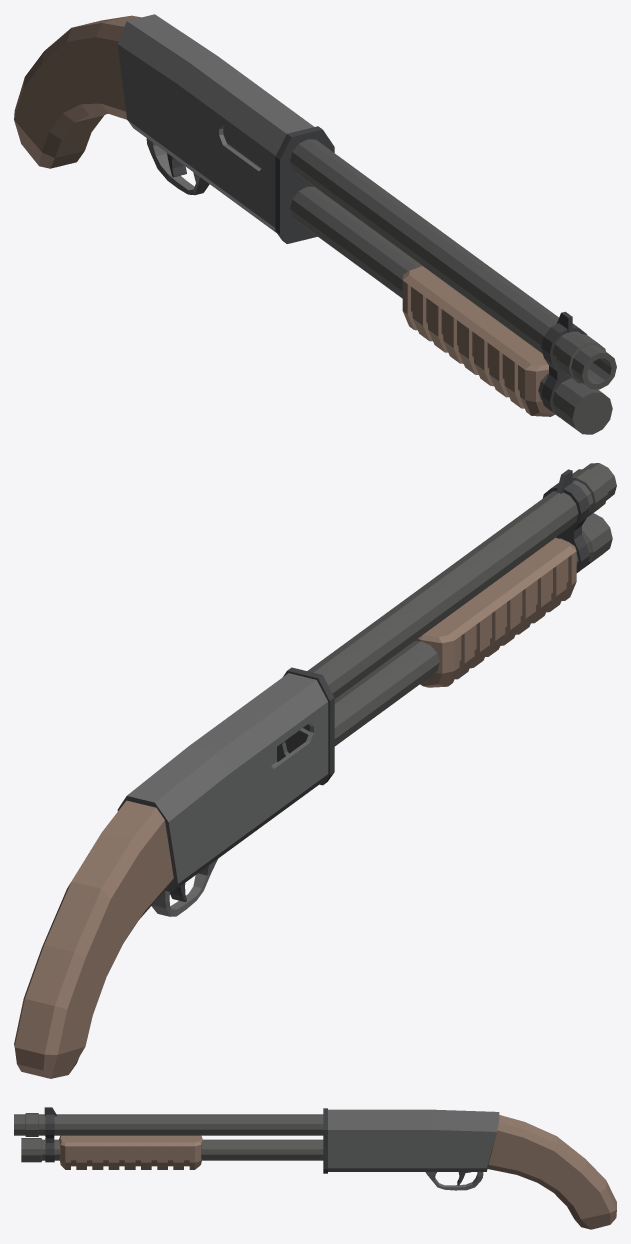
The model's file is shotgun_shortstock.glb.
3 views of the same model, one above another, from view 1: azimuth 30°, elevation 25°; view 2: azimuth 150°, elevation 25°; view 3: azimuth 270°, elevation 25° (orthographic). The views are drawn at different scales.
Parts seen in each view (by area): view 1: shotgun_shortstock; view 2: shotgun_shortstock; view 3: shotgun_shortstock.
Part boxes in pixels (<box>): shotgun_shortstock: <box>14,14,616,434</box>; shotgun_shortstock: <box>14,463,616,1078</box>; shotgun_shortstock: <box>14,1107,616,1229</box>.
Bounding box in the file's own units: 0.0447 × 0.1755 × 0.8116.
